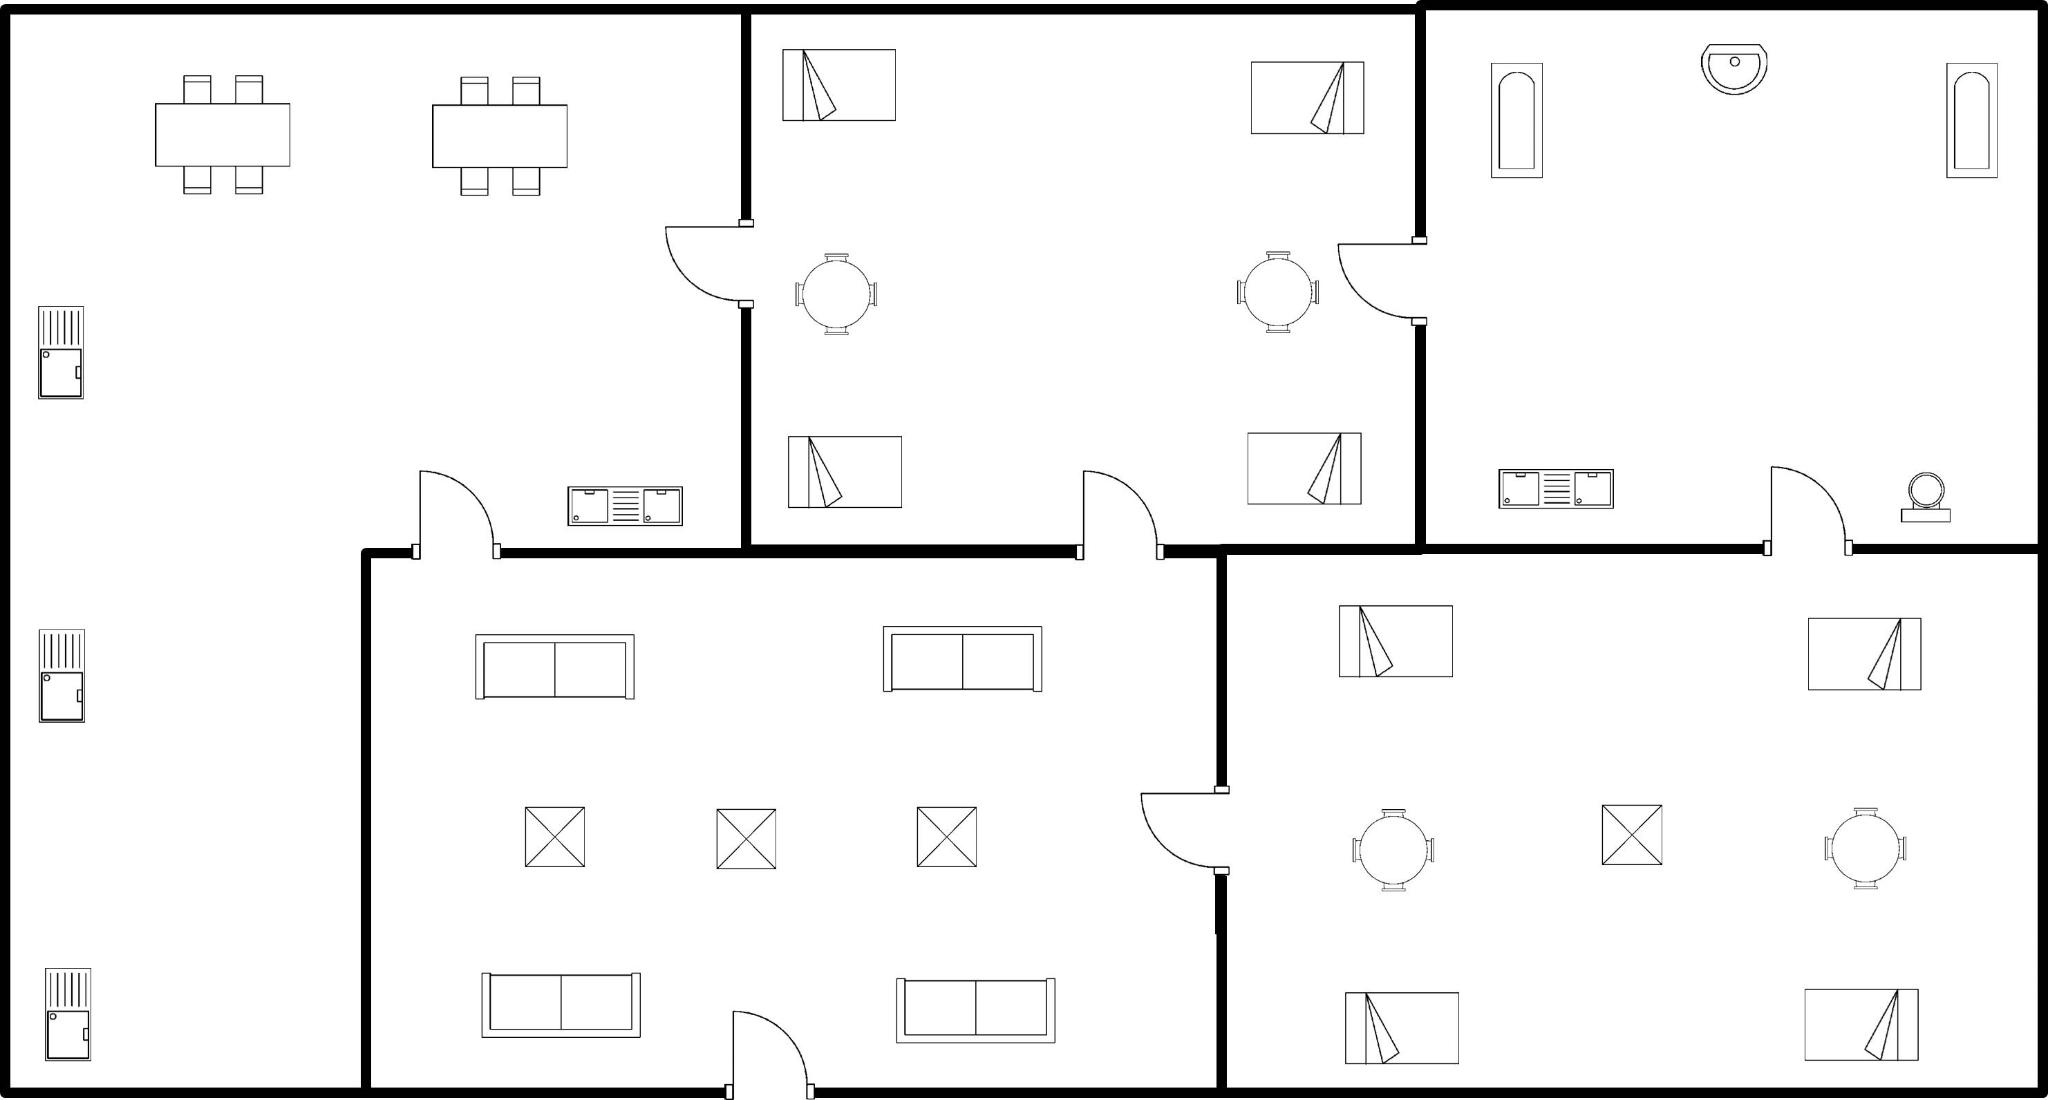sink: (557, 478, 695, 538), (1487, 461, 1619, 520)
